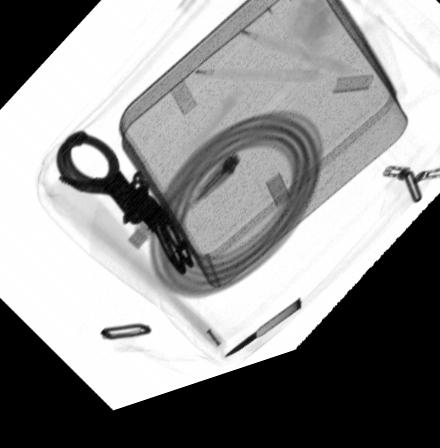Bullet: (223, 317, 301, 370)
HandCuffs: (53, 132, 195, 286)
